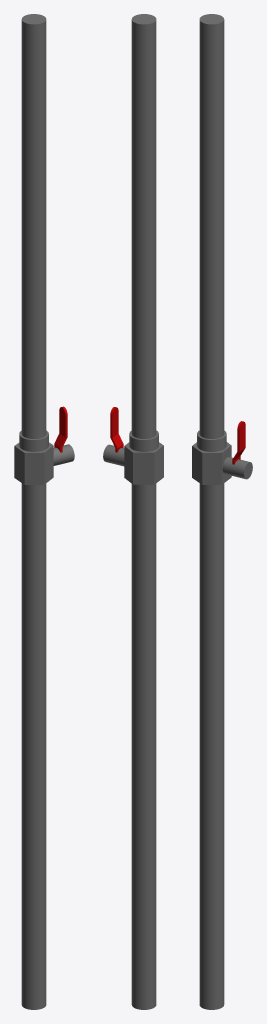
The model's file is gas valve.fbx.
The picture shows the model from 3 angles, left to right: view 1: azimuth 30°, elevation 25°; view 2: azimuth 150°, elevation 25°; view 3: azimuth 330°, elevation 25°; orthographic projection.
Visible parts, largest first — view 1: Group1, Group3; view 2: Group1, Group3; view 3: Group1, Group3.
Part boxes in pixels (left/top/right/bottom): Group1: left=14, top=14, right=53, bottom=1009; Group3: left=53, top=406, right=74, bottom=465; Group1: left=124, top=14, right=163, bottom=1009; Group3: left=103, top=407, right=124, bottom=466; Group1: left=192, top=14, right=231, bottom=1009; Group3: left=222, top=421, right=252, bottom=479.
Bounding box in the file's own units: 240 × 4405 × 160.
